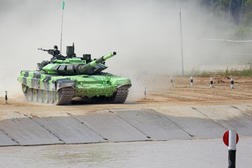t72: (20, 53, 131, 103)
